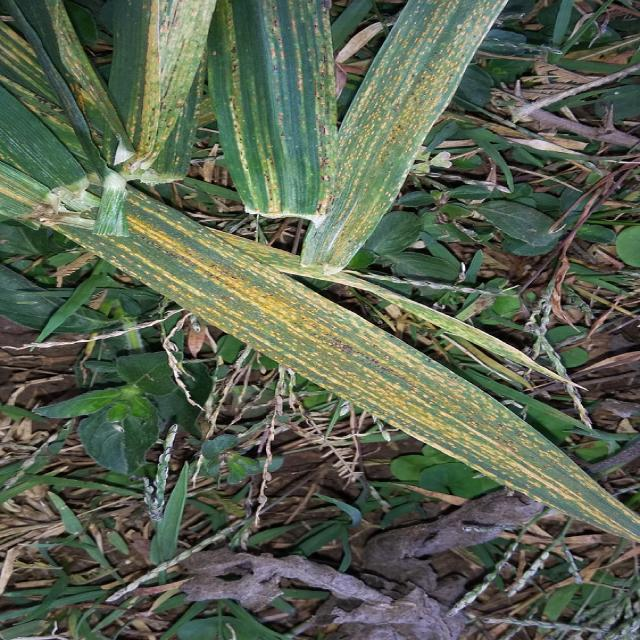wheat-yellowrust: (50, 188, 640, 547), (301, 0, 508, 275), (207, 0, 369, 218), (123, 0, 217, 180)
